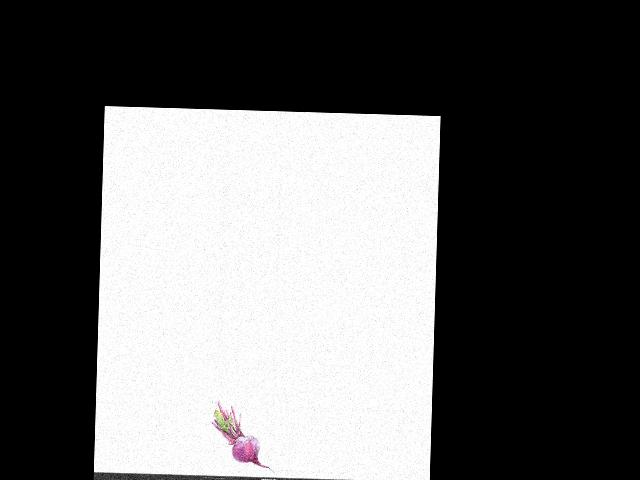beet: (210, 400, 276, 474)
